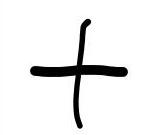plus: (29, 18, 125, 128)
